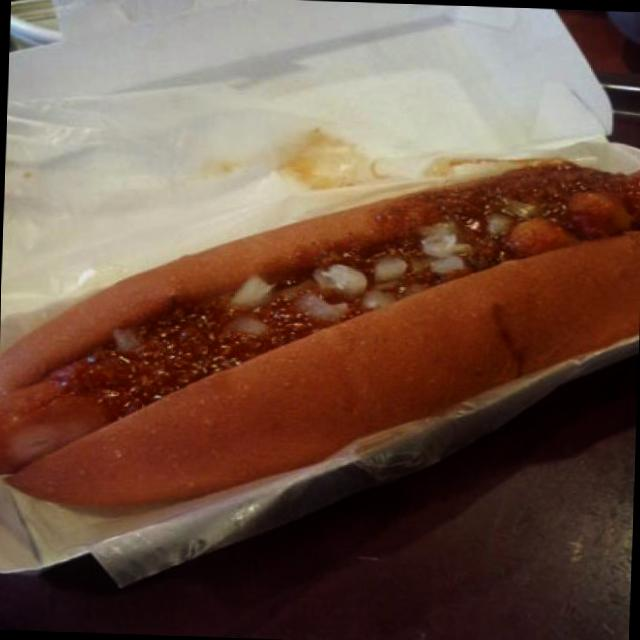Hot Dog: (0, 134, 640, 538)
